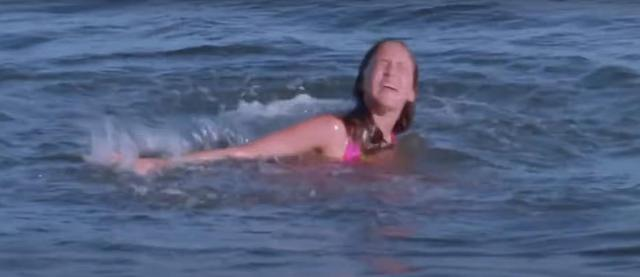drowning: (114, 26, 438, 199)
